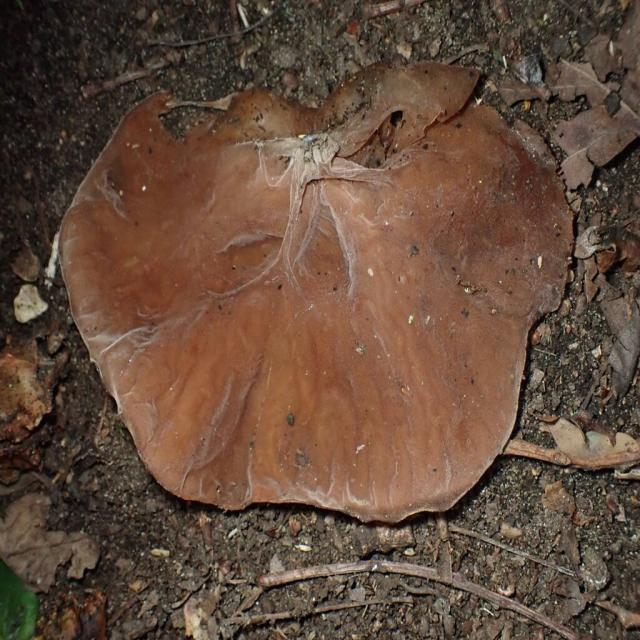Matang: (62, 50, 576, 526)
